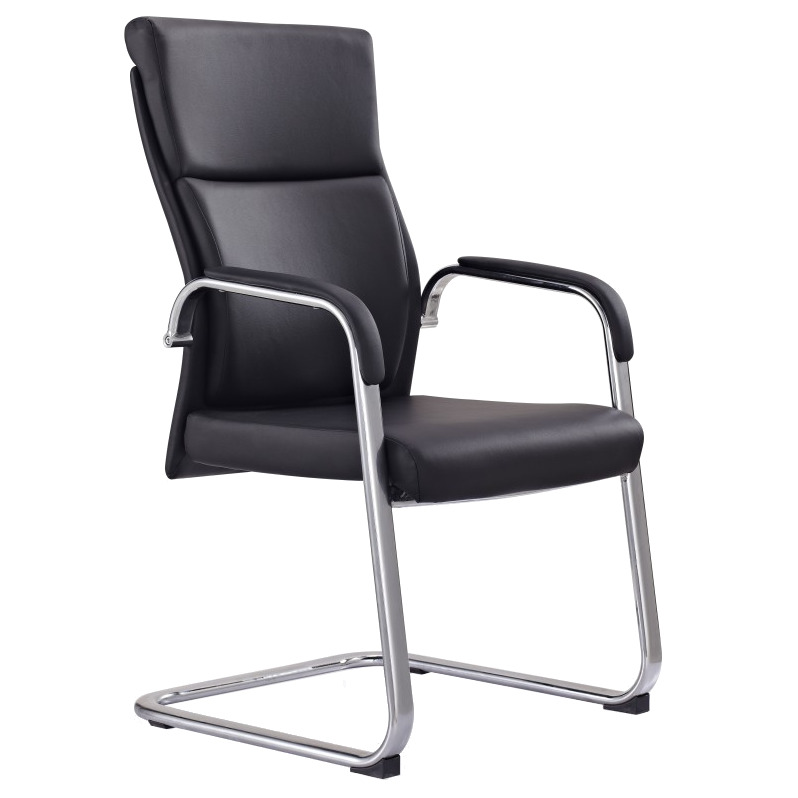chairs: (97, 12, 670, 782)
